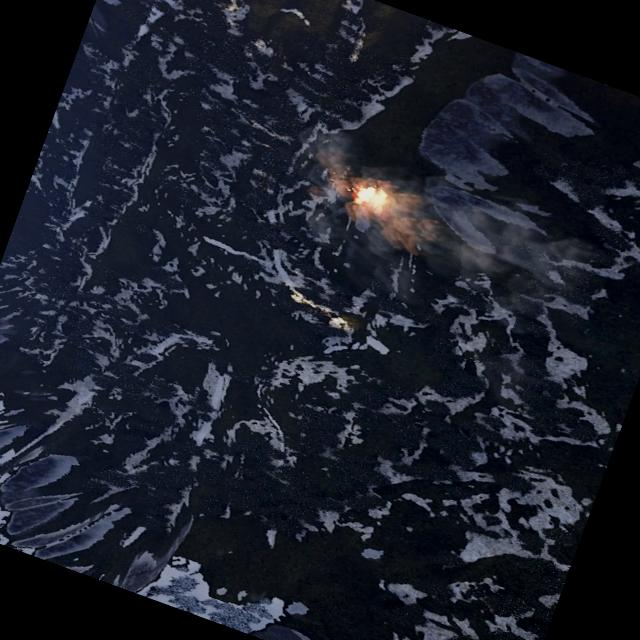fire: (352, 179, 394, 214)
smoke: (244, 113, 640, 401)
